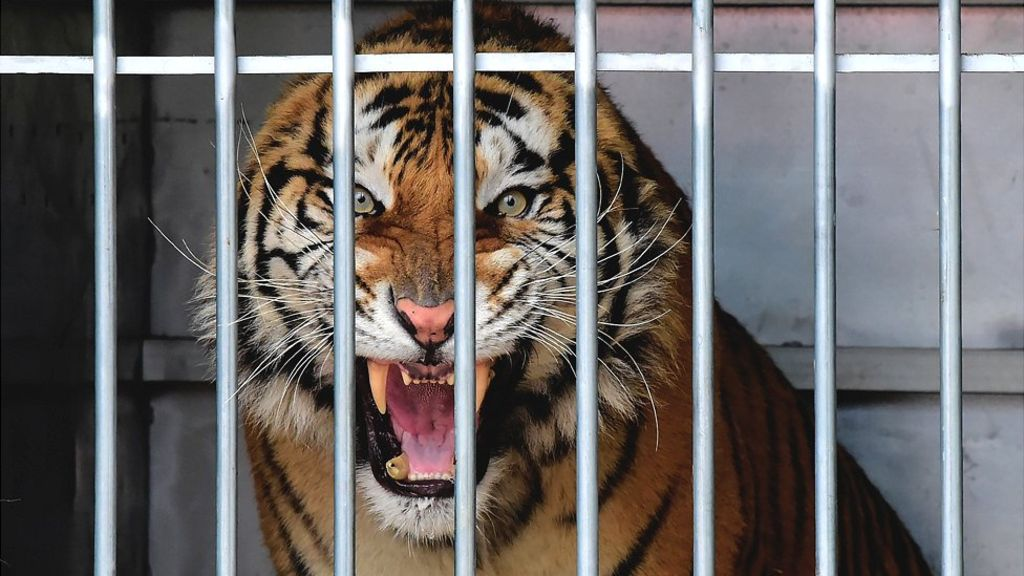Tiger: (156, 1, 952, 576)
